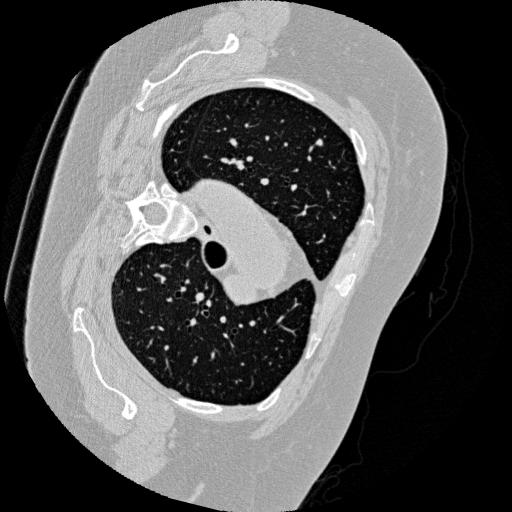nodule: (314, 138, 327, 151)
